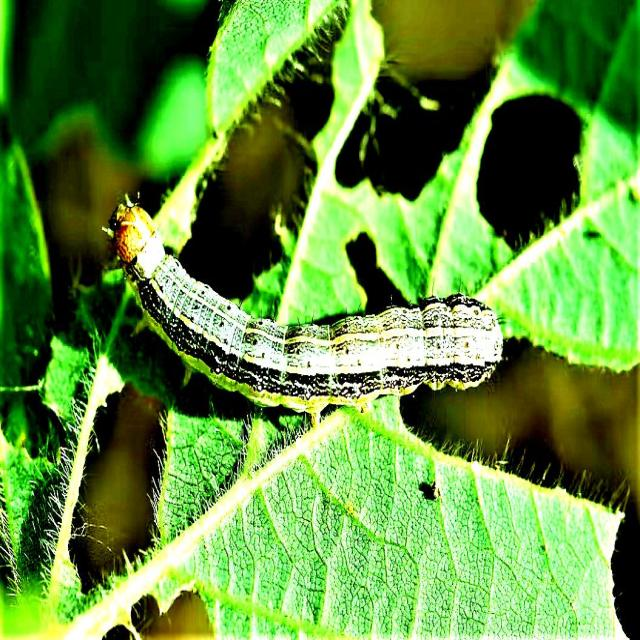armyworm: (101, 194, 504, 417)
